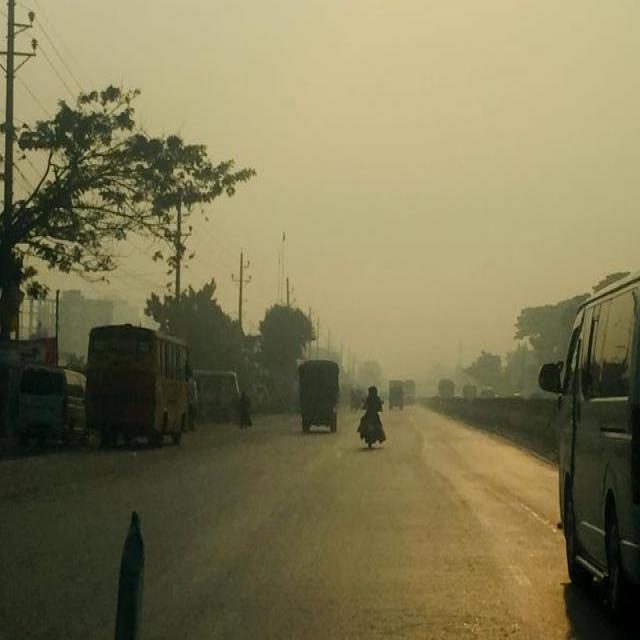BUS: (86, 323, 195, 450)
TRUCK: (543, 250, 640, 632), (12, 366, 86, 450), (298, 360, 339, 432)
